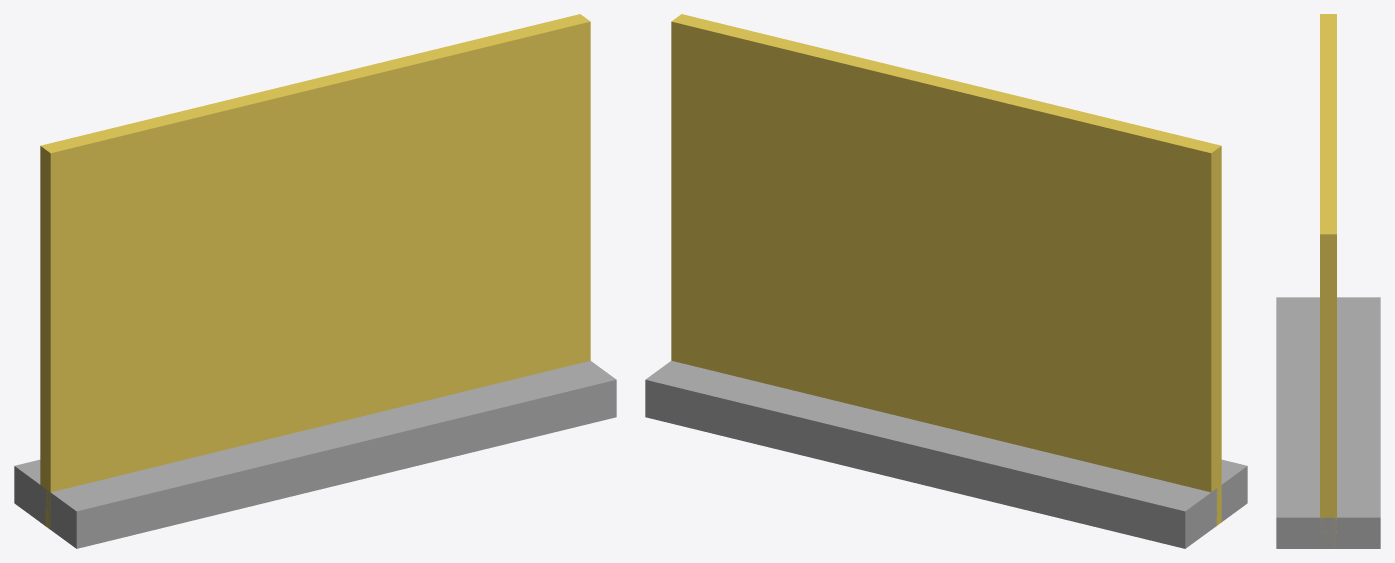
The model's file is construction_fencing.glb.
The picture shows the model from 3 angles, left to right: view 1: azimuth 30°, elevation 25°; view 2: azimuth 150°, elevation 25°; view 3: azimuth 270°, elevation 25°; orthographic projection. The views are drawn at different scales.
Parts seen in each view (by area): view 1: panel, foot; view 2: panel, foot; view 3: foot, panel.
Boxes of the visible parts, x1,y1,x2,y2 form: panel: [40, 14, 590, 529]; foot: [14, 360, 616, 548]; panel: [671, 14, 1221, 525]; foot: [645, 360, 1247, 548]; foot: [1276, 297, 1380, 548]; panel: [1320, 14, 1336, 547].
Bounding box in the file's own units: 3 × 2 × 0.5996.
